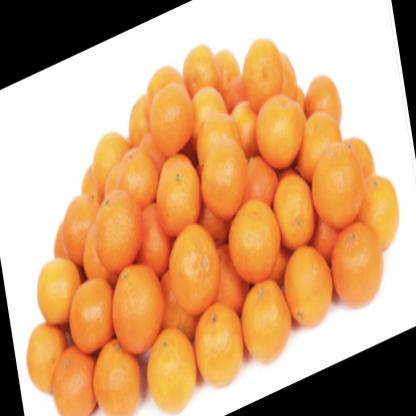orange: (313, 125, 364, 232), (333, 214, 381, 313), (239, 279, 294, 364), (194, 301, 244, 389), (228, 198, 281, 281), (170, 225, 221, 311), (113, 261, 162, 350), (144, 327, 195, 408), (93, 335, 144, 416), (284, 245, 336, 323), (94, 193, 141, 275), (155, 155, 202, 235), (148, 83, 196, 154), (276, 164, 313, 254), (202, 144, 248, 216), (22, 320, 66, 393), (362, 166, 402, 246), (240, 36, 285, 106), (50, 346, 96, 414), (71, 278, 114, 350), (258, 89, 297, 168), (36, 254, 81, 322), (60, 193, 98, 258), (115, 148, 156, 203), (306, 67, 342, 125), (200, 110, 241, 155)
